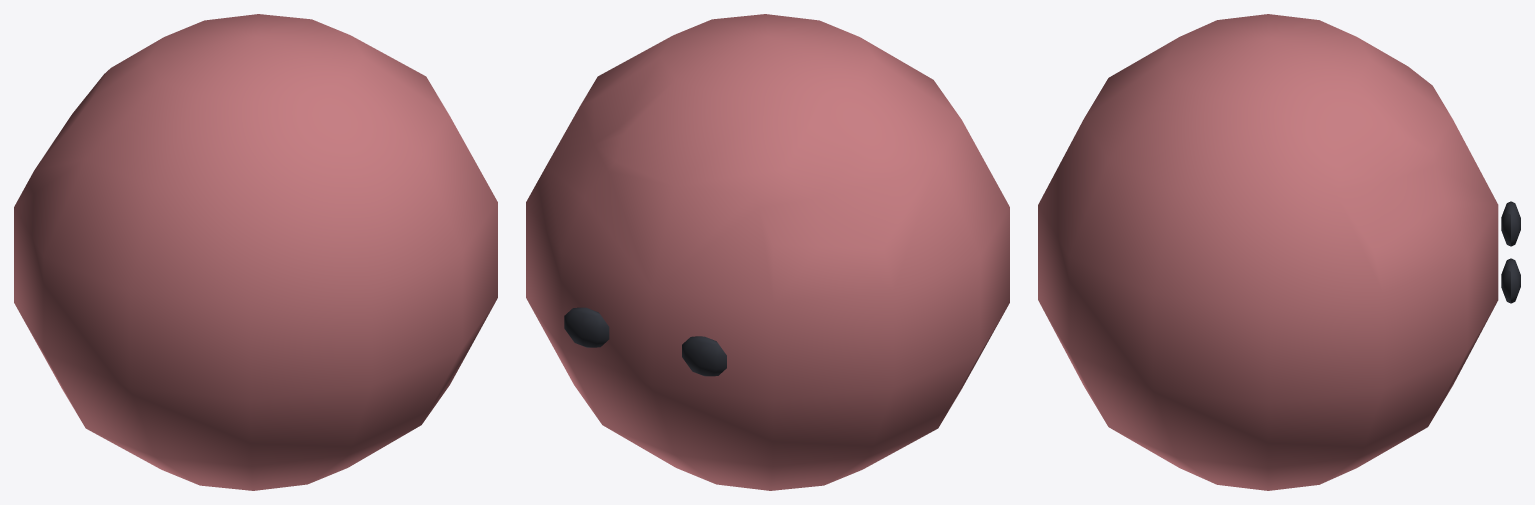
Rendered from trispike_head.obj.
3 renders of one model, left to right at view 1: azimuth 30°, elevation 25°; view 2: azimuth 150°, elevation 25°; view 3: azimuth 270°, elevation 25°, orthographic.
Parts seen in each view (by area): view 1: source_component_000; view 2: source_component_000, source_component_002, source_component_001; view 3: source_component_000, source_component_001, source_component_002.
Boxes of the visible parts, x1,y1,x2,y2 form: source_component_000: [14, 14, 497, 490]; source_component_000: [526, 14, 1009, 490]; source_component_002: [564, 307, 609, 347]; source_component_001: [682, 336, 726, 376]; source_component_000: [1038, 14, 1498, 490]; source_component_001: [1501, 201, 1520, 246]; source_component_002: [1501, 258, 1520, 303].
Bounding box in the file's own units: 0.4473 × 0.434 × 0.4438.
